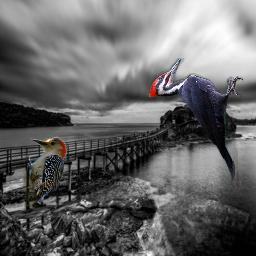Woodpecker: (149, 58, 243, 190), (22, 134, 75, 207)
